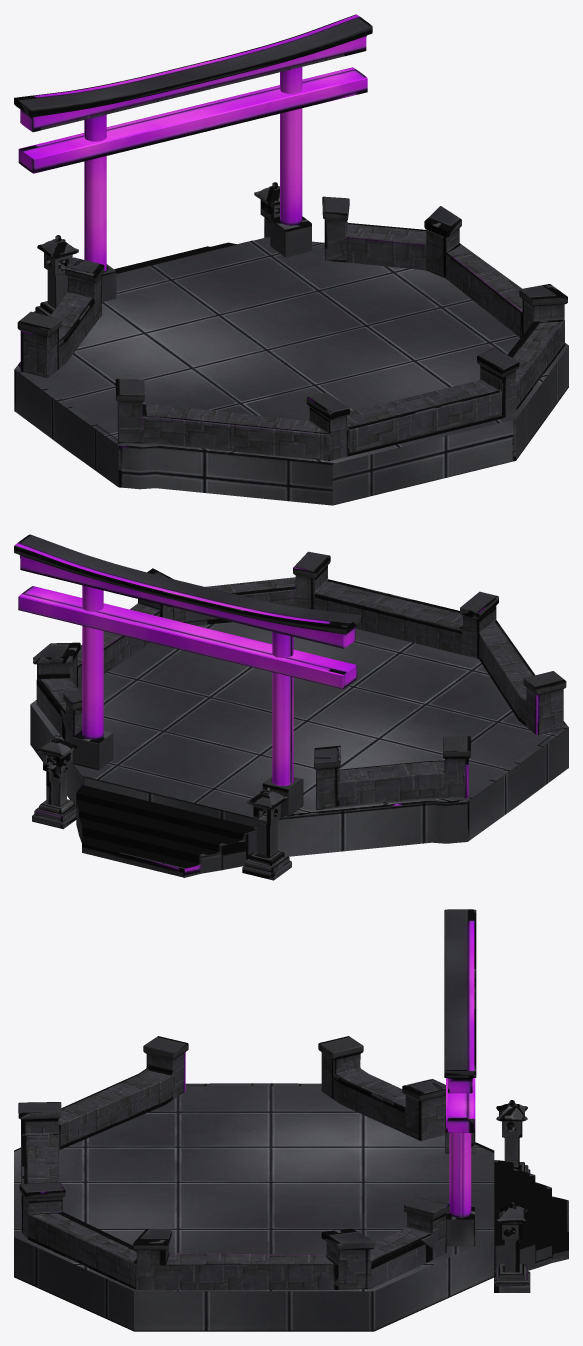
3 renders of one model, top to bottom at view 1: azimuth 30°, elevation 25°; view 2: azimuth 150°, elevation 25°; view 3: azimuth 270°, elevation 25°, orthographic. The views are drawn at different scales.
Visible parts, largest first — view 1: Stairs1_lambert7_0, Stairs1_MOBA_modular_scene_1:blinn3_0, Stairs1_MOBA_modular_scene_1:blinn7_0, Stairs1_MOBA_modular_scene_1:blinn2_0, Stairs1_lambert10_0, Stairs1_lambert8_0, Stairs1_lambert9_0, Stairs1_lambert6_0; view 2: Stairs1_lambert7_0, Stairs1_MOBA_modular_scene_1:blinn3_0, Stairs1_MOBA_modular_scene_1:blinn7_0, Stairs1_lambert6_0, Stairs1_MOBA_modular_scene_1:blinn2_0, Stairs1_lambert8_0, Stairs1_lambert10_0, Stairs1_lambert9_0; view 3: Stairs1_lambert7_0, Stairs1_MOBA_modular_scene_1:blinn3_0, Stairs1_lambert10_0, Stairs1_MOBA_modular_scene_1:blinn2_0, Stairs1_lambert6_0, Stairs1_lambert8_0, Stairs1_MOBA_modular_scene_1:blinn7_0, Stairs1_lambert9_0.
Boxes of the visible parts, <box> form: Stairs1_lambert7_0: <box>14,237,568,505</box>; Stairs1_MOBA_modular_scene_1:blinn3_0: <box>20,219,564,460</box>; Stairs1_MOBA_modular_scene_1:blinn7_0: <box>18,36,367,270</box>; Stairs1_MOBA_modular_scene_1:blinn2_0: <box>14,14,372,117</box>; Stairs1_lambert10_0: <box>17,196,567,419</box>; Stairs1_lambert8_0: <box>33,182,279,316</box>; Stairs1_lambert9_0: <box>101,216,311,301</box>; Stairs1_lambert6_0: <box>114,240,252,273</box>; Stairs1_lambert7_0: <box>30,622,568,856</box>; Stairs1_MOBA_modular_scene_1:blinn3_0: <box>36,565,563,809</box>; Stairs1_MOBA_modular_scene_1:blinn7_0: <box>18,555,357,785</box>; Stairs1_lambert6_0: <box>76,785,256,877</box>; Stairs1_MOBA_modular_scene_1:blinn2_0: <box>14,534,361,634</box>; Stairs1_lambert8_0: <box>32,735,291,880</box>; Stairs1_lambert10_0: <box>33,551,566,769</box>; Stairs1_lambert9_0: <box>72,730,303,816</box>; Stairs1_lambert7_0: <box>14,1083,494,1331</box>; Stairs1_MOBA_modular_scene_1:blinn3_0: <box>21,1052,446,1289</box>; Stairs1_lambert10_0: <box>18,1036,449,1250</box>; Stairs1_MOBA_modular_scene_1:blinn2_0: <box>444,909,476,1078</box>; Stairs1_lambert6_0: <box>494,1160,568,1271</box>; Stairs1_lambert8_0: <box>494,1100,530,1292</box>; Stairs1_MOBA_modular_scene_1:blinn7_0: <box>446,1078,475,1217</box>; Stairs1_lambert9_0: <box>445,1115,475,1246</box>.
Size of the model in its own units: 2636 by 1442 by 2972.
Materials: 1 (1 with a texture image).
